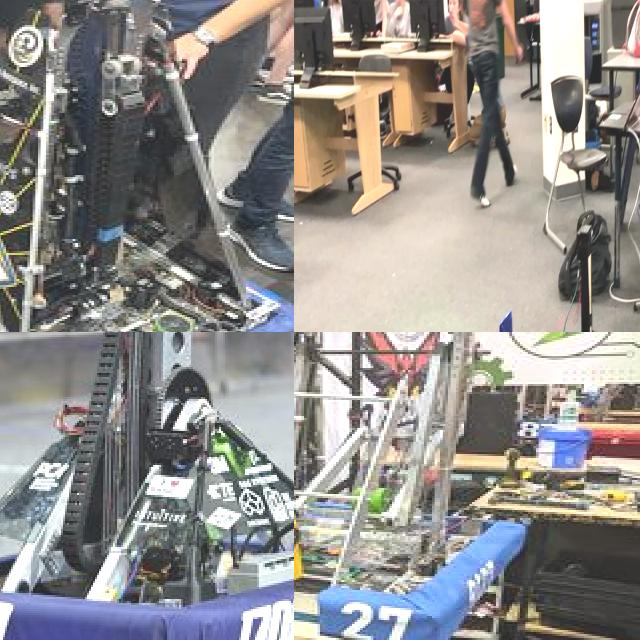FRC-Robots: (0, 0, 294, 332), (0, 332, 294, 640), (294, 332, 552, 640), (465, 225, 635, 332)
